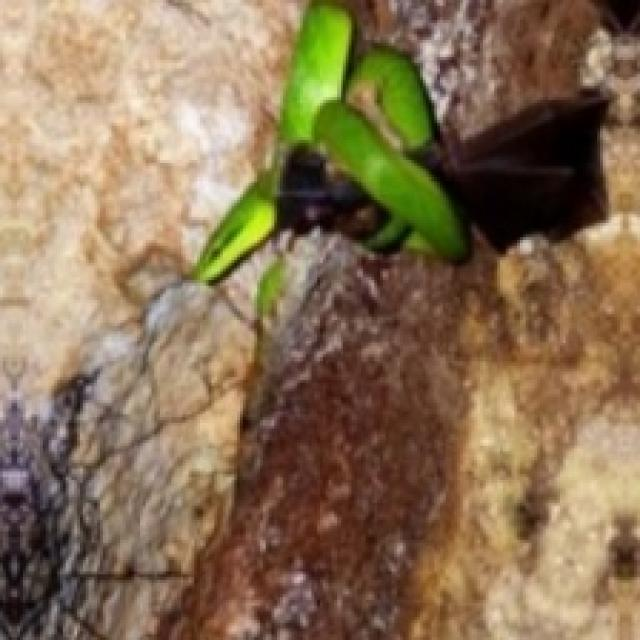red-tailed green ratsnake: (191, 0, 466, 280)
